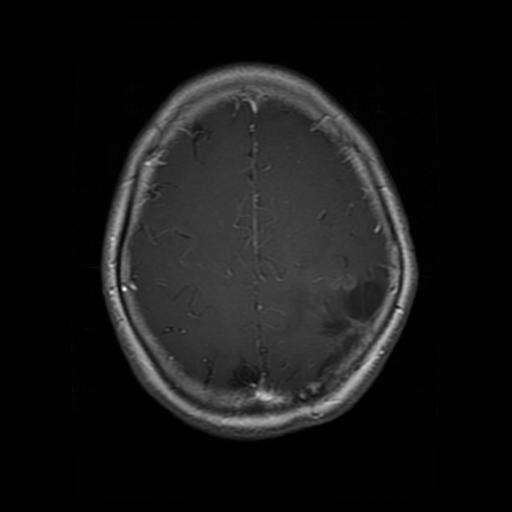Tumour-Glioma: (331, 275, 407, 340)
